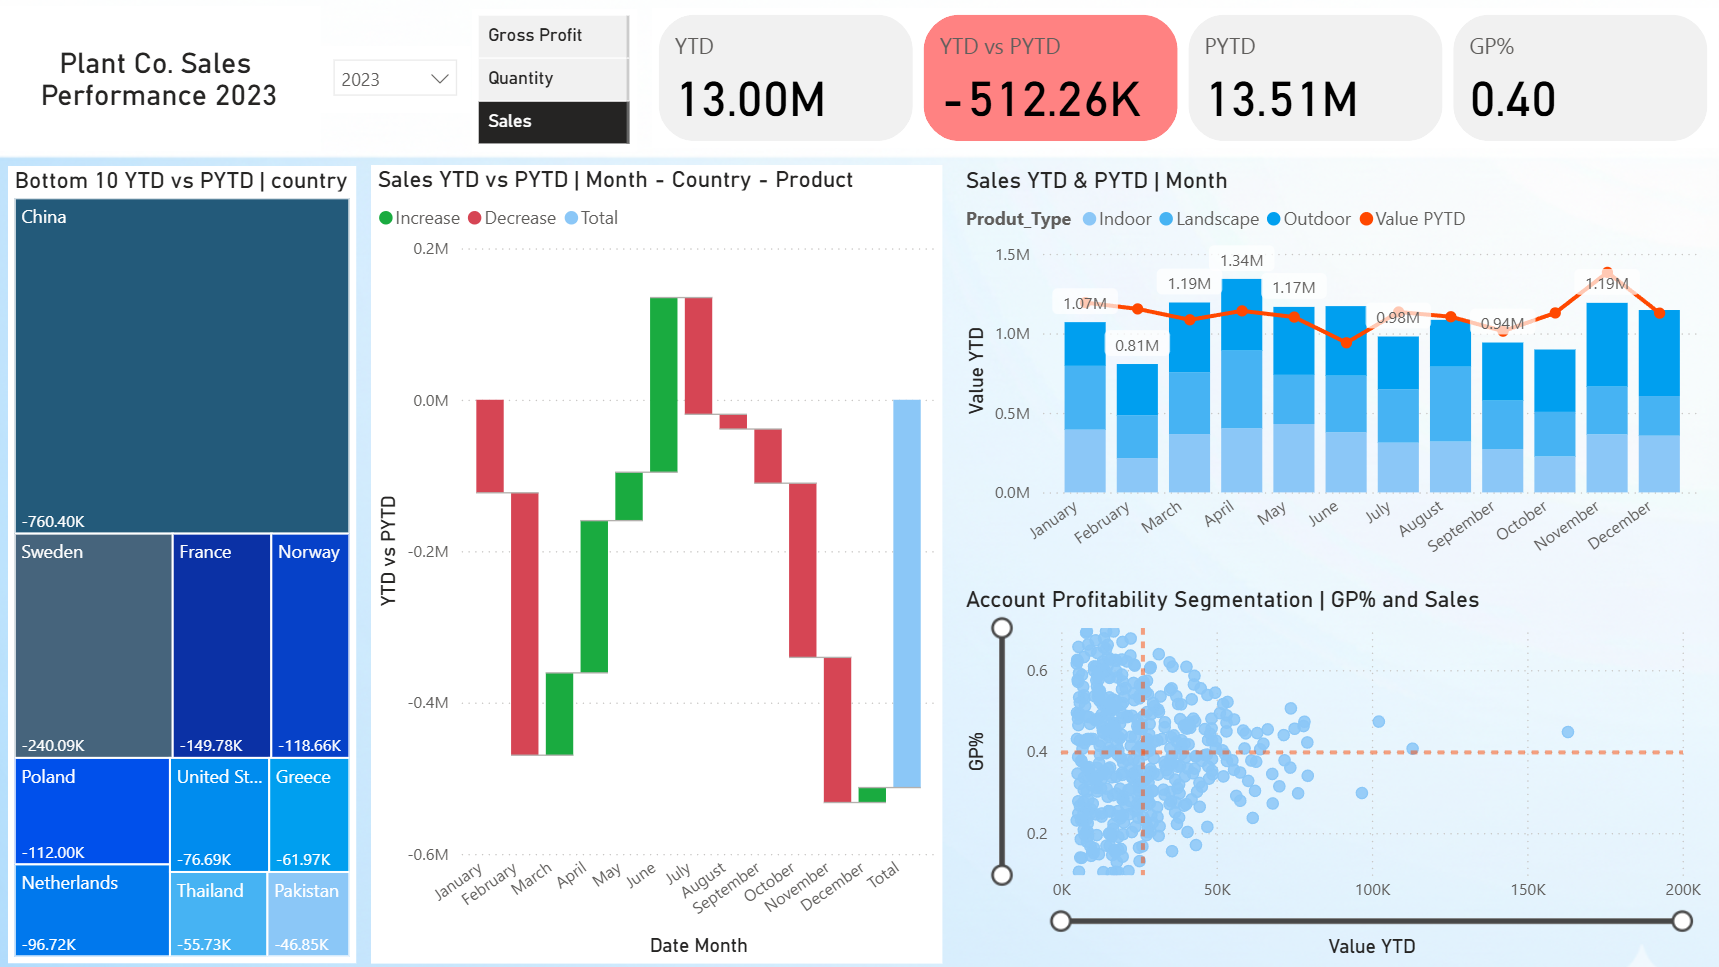

What the dashboard file says about the page in this screenshot:
{"tool":"powerbi","page":{"name":"Performance Report","canvas":[1280,720],"ordinal":0},"visuals":[{"type":"advancedSlicerVisual","fields":{"Values":["Slc_Values.Values"]},"box":[352.2,7.3,122.7,105.9],"z":0},{"type":"cardVisual","fields":{"Data":["_Measures.S_YTD","_Measures.YTD vs PYTD","_Measures.S_PYTD","_Measures.GP%"]},"box":[486.7,6.4,793.3,104.3],"z":1000},{"type":"slicer","fields":{"Values":["Dim_Date.Date.Variation.Date Hierarchy.Year"]},"box":[239.8,35.2,111.9,50.1],"z":2000},{"type":"card","fields":{"Values":["_Measures._Report title"]},"box":[0,5.3,239.8,107.6],"z":3000},{"type":"treemap","title":"Bottom 10 YTD vs PYTD | country","fields":{"Group":["Dim_Account.country"],"Values":["_Measures.YTD vs PYTD"]},"box":[7.3,124.4,258.9,592.9],"z":4000},{"type":"waterfallChart","fields":{"Category":["Dim_Date.Date.Variation.Date Hierarchy.Month","Dim_Account.country","Dim_Product.Produt_Type","Dim_Product.Product_Name"],"Y":["_Measures.YTD vs PYTD"]},"box":[277.2,123.5,424.5,593.8],"z":5000},{"type":"lineStackedColumnComboChart","fields":{"Category":["Dim_Date.Date.Variation.Date Hierarchy.Quarter","Dim_Date.Date.Variation.Date Hierarchy.Month"],"Series":["Dim_Product.Produt_Type"],"Y":["_Measures.S_YTD"],"Y2":["_Measures.S_PYTD"]},"box":[714.6,124.4,557.2,311.1],"z":6000},{"type":"scatterChart","fields":{"Category":["Dim_Account.Account"],"X":["_Measures.S_YTD"],"Y":["_Measures.GP%"]},"box":[714.6,435.5,557.2,281.8],"z":7000}]}

Visuals, with their boxes in screenshot pixels (x1, y1, x2, y2), scaled from the page's 1280x720 canvas onto the 1719x967 screenshot:
advancedSlicerVisual - Slc_Values.Values: l=473, t=10, r=638, b=152
cardVisual - _Measures.S_YTD x _Measures.YTD vs PYTD: l=654, t=9, r=1718, b=149
slicer - Dim_Date.Date.Variation.Date Hierarchy.Year: l=322, t=47, r=472, b=115
card - _Measures._Report title: l=0, t=7, r=322, b=152
"Bottom 10 YTD vs PYTD | country" treemap: l=10, t=167, r=357, b=963
waterfallChart - Dim_Date.Date.Variation.Date Hierarchy.Month x Dim_Account.country: l=372, t=166, r=942, b=963
lineStackedColumnComboChart - Dim_Date.Date.Variation.Date Hierarchy.Quarter x Dim_Date.Date.Variation.Date Hierarchy.Month: l=960, t=167, r=1708, b=585
scatterChart - Dim_Account.Account x _Measures.S_YTD: l=960, t=585, r=1708, b=963
